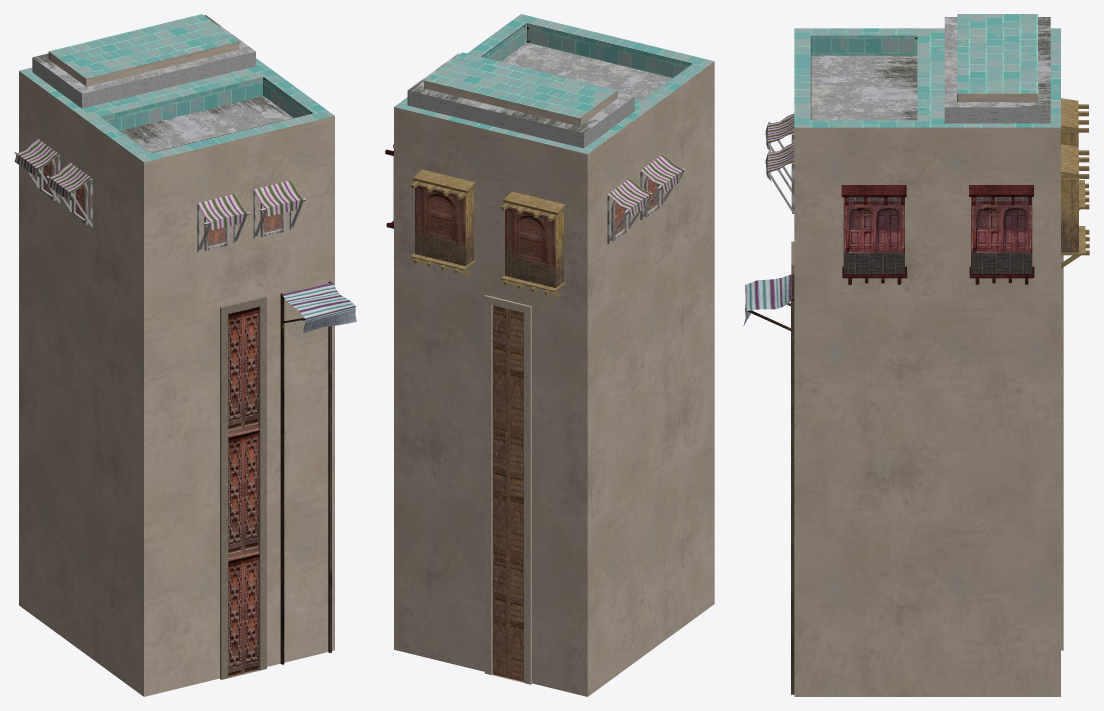
Rendered from medina_cityscape_daar_03_2.gltf.
3 views of the same model, side by side, from view 1: azimuth 30°, elevation 25°; view 2: azimuth 150°, elevation 25°; view 3: azimuth 270°, elevation 25° (orthographic). The views are drawn at different scales.
Visible parts, largest first — view 1: medina_cityscape_daar_03_2; view 2: medina_cityscape_daar_03_2; view 3: medina_cityscape_daar_03_2.
Boxes of the visible parts, left/top/right/bottom form: medina_cityscape_daar_03_2: left=14, top=14, right=356, bottom=696; medina_cityscape_daar_03_2: left=385, top=14, right=714, bottom=696; medina_cityscape_daar_03_2: left=743, top=14, right=1089, bottom=696.
Bounding box in the file's own units: 3.91 × 8.77 × 4.63.
8 materials, 8 textured.
